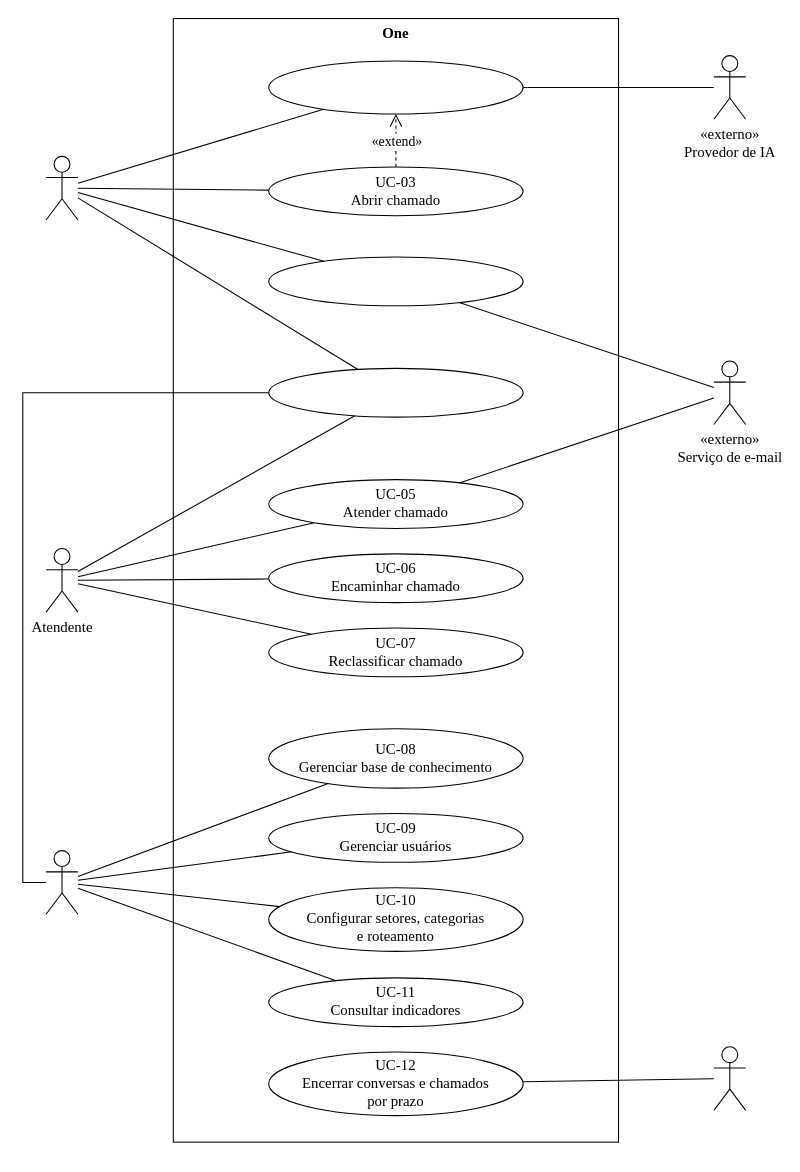
Some shapes in this 800 by 1172 pixel diagram are drawn without their labels. The shapes that lost their labels are listed below. From the top down, each one's centre as x and y in pixels, then its label:
point 395,87: UC-02 Conversar com o assistente
point 61,187: Aluno
point 395,281: UC-04 Acompanhar chamado
point 395,392: UC-01 Autenticar-se
point 61,882: Administrador
point 729,1078: «sistema» Agendador
